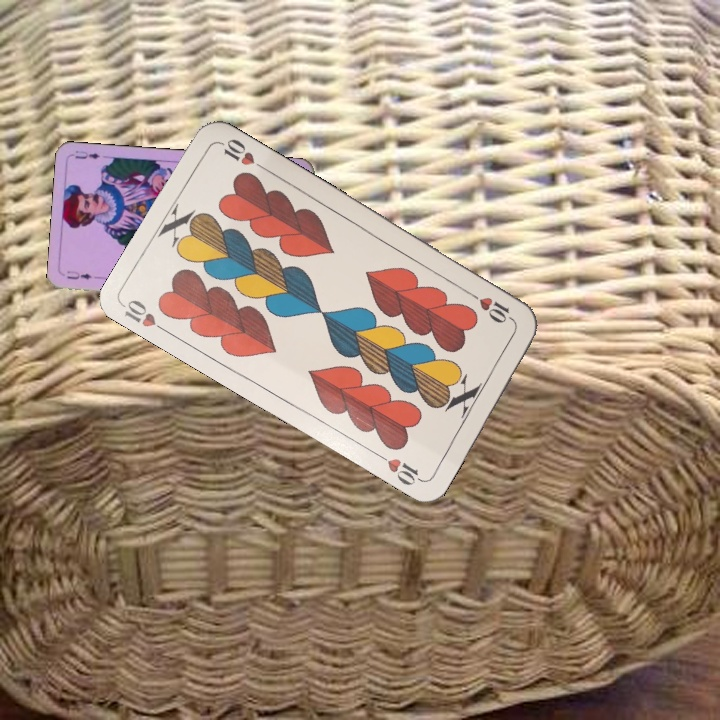EU: (63, 267, 94, 282)
H10: (119, 295, 173, 337), (465, 287, 518, 326)
